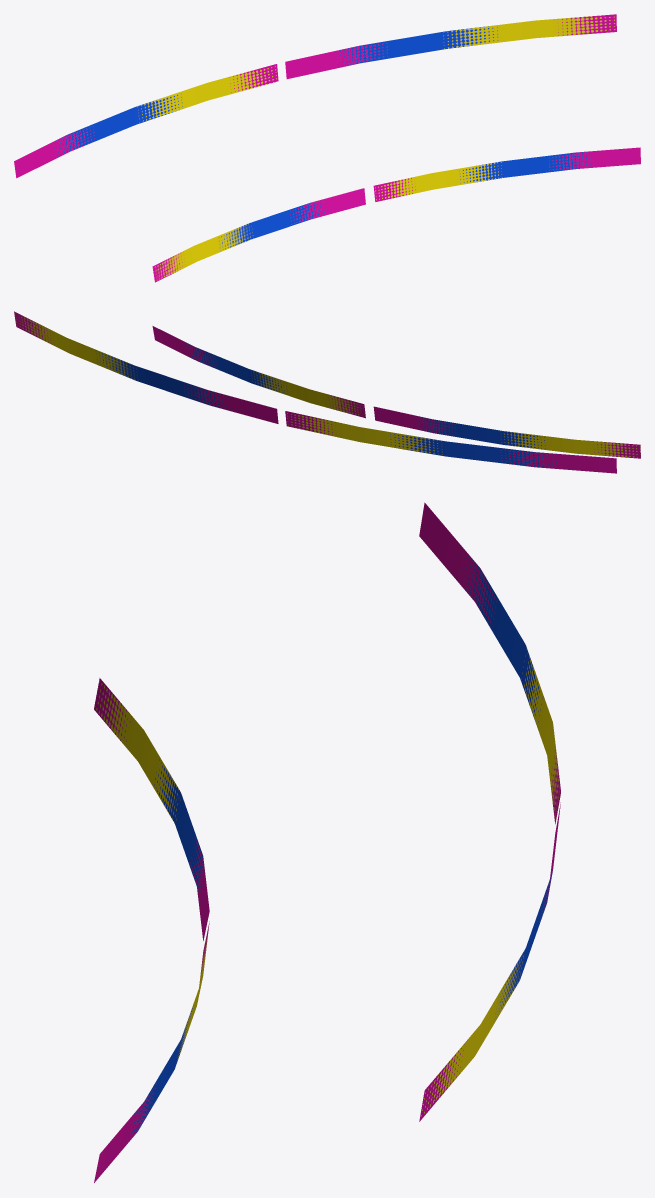
Rendered from stand_003.fbx.
3 views of the same model, one above another, from view 1: azimuth 30°, elevation 25°; view 2: azimuth 150°, elevation 25°; view 3: azimuth 270°, elevation 25° (orthographic). The views are drawn at different scales.
Visible parts, largest first — view 1: stand_003; view 2: stand_003; view 3: stand_003.
Part boxes in pixels (x1,y1,x2,y2): stand_003: [14, 14, 640, 282]; stand_003: [14, 311, 640, 473]; stand_003: [94, 502, 560, 1182].
Size of the model in its own units: 21683 by 7282 by 2583.
